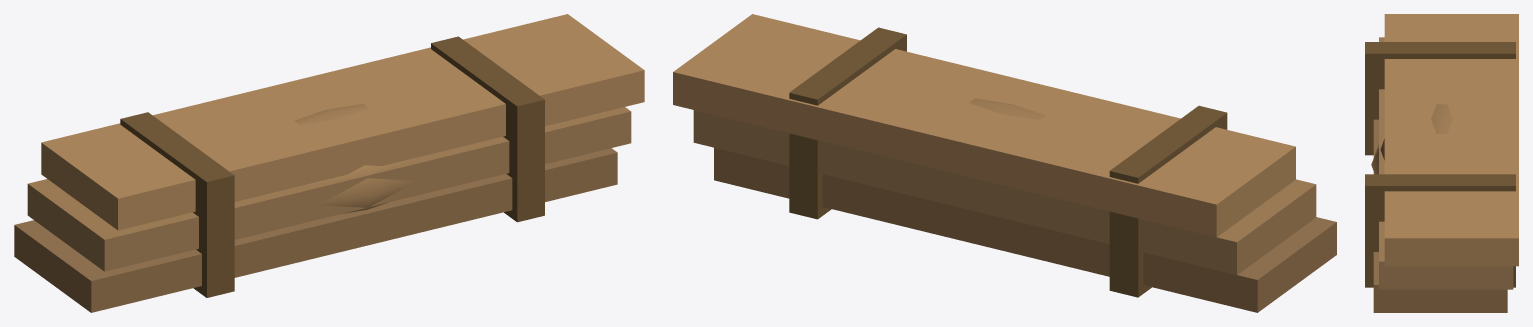
The model's file is plank_stack.glb.
3 views of the same model, side by side, from view 1: azimuth 30°, elevation 25°; view 2: azimuth 150°, elevation 25°; view 3: azimuth 270°, elevation 25° (orthographic). The views are drawn at different scales.
Parts seen in each view (by area): view 1: plank_stack, plank_stack__far; view 2: plank_stack, plank_stack__far; view 3: plank_stack, plank_stack__far.
Boxes of the visible parts, <box> form: plank_stack: <box>14,14,644,312</box>; plank_stack__far: <box>294,104,419,213</box>; plank_stack: <box>673,14,1336,312</box>; plank_stack__far: <box>969,98,1045,120</box>; plank_stack: <box>1365,14,1518,312</box>; plank_stack__far: <box>1371,104,1452,174</box>.
Bounding box in the file's own units: 0.5252 × 0.104 × 0.143.
